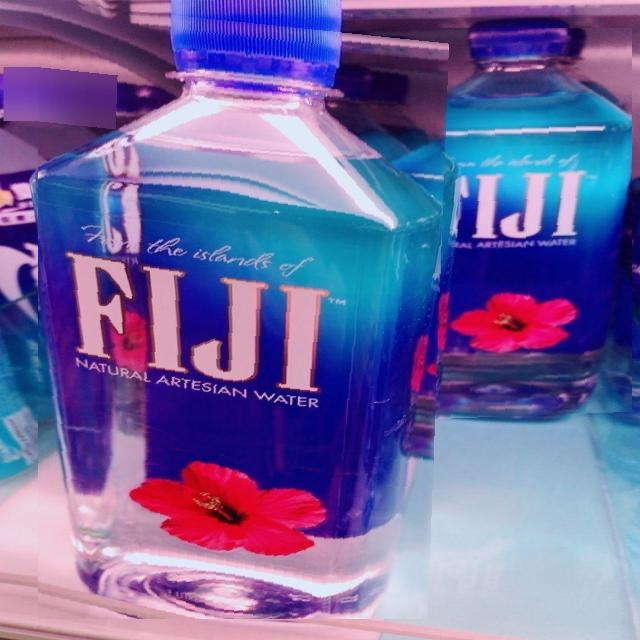plastic bottle: (38, 1, 449, 619), (396, 28, 632, 420)
